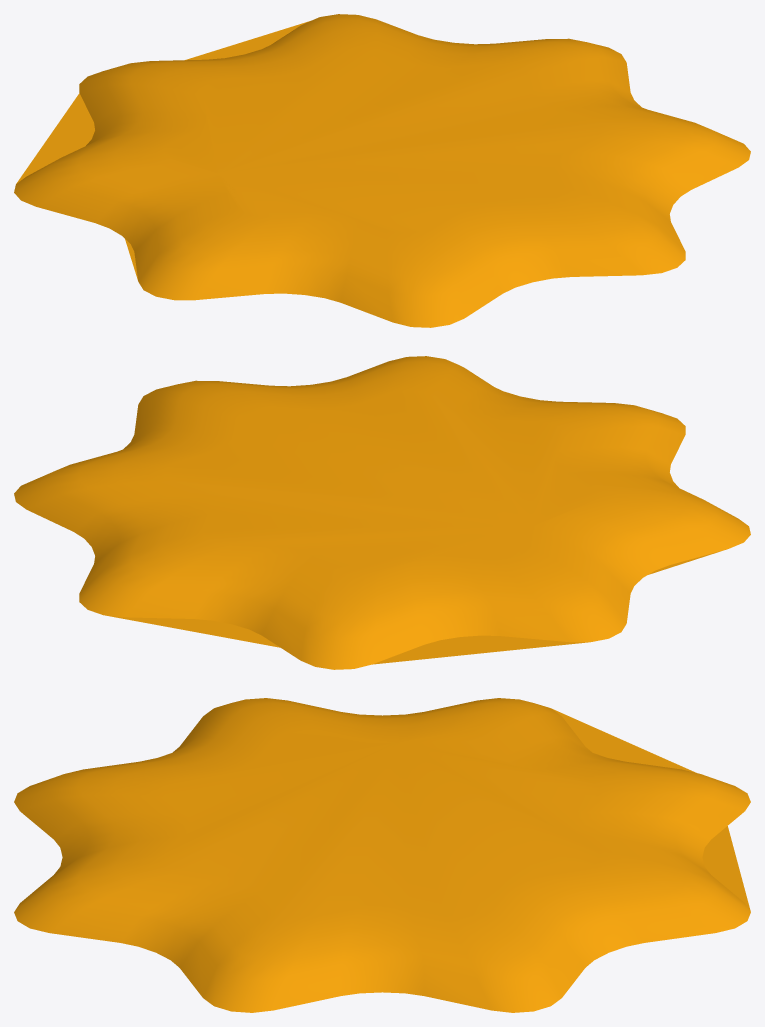
Rendered from Sand.fbx.
3 renders of one model, top to bottom at view 1: azimuth 30°, elevation 25°; view 2: azimuth 150°, elevation 25°; view 3: azimuth 270°, elevation 25°, orthographic. The views are drawn at different scales.
Parts seen in each view (by area): view 1: Sand; view 2: Sand; view 3: Sand.
Part boxes in pixels (<box>): Sand: <box>14,14,750,327</box>; Sand: <box>14,356,750,669</box>; Sand: <box>14,698,750,1012</box>.
Size of the model in its own units: 3799 by 189 by 3799.
